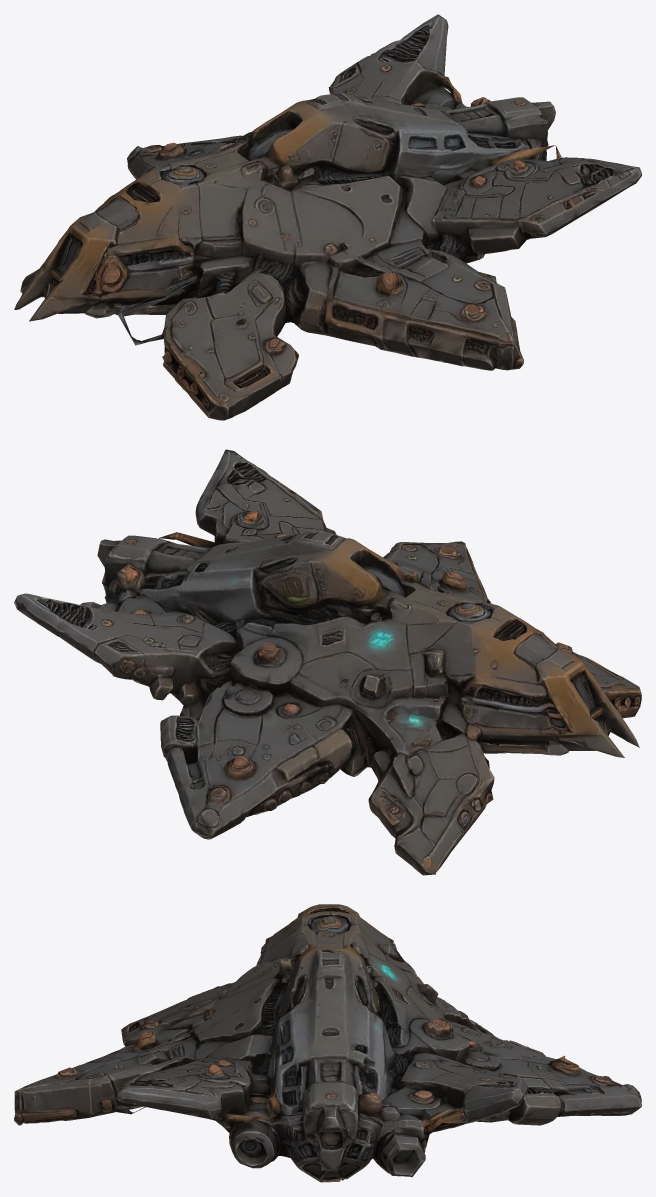
File: enemy_interceptor.glb
The picture shows the model from 3 angles, top to bottom: view 1: azimuth 30°, elevation 25°; view 2: azimuth 150°, elevation 25°; view 3: azimuth 270°, elevation 25°; orthographic projection. The views are drawn at different scales.
Visible parts, largest first — view 1: tripo_node_a0b247aa-0b7c-49c7-9822-364fcb9ac0b7; view 2: tripo_node_a0b247aa-0b7c-49c7-9822-364fcb9ac0b7; view 3: tripo_node_a0b247aa-0b7c-49c7-9822-364fcb9ac0b7.
Boxes of the visible parts, box(x1,y1,x2,y2) form: tripo_node_a0b247aa-0b7c-49c7-9822-364fcb9ac0b7: box(14, 14, 641, 420); tripo_node_a0b247aa-0b7c-49c7-9822-364fcb9ac0b7: box(14, 449, 641, 875); tripo_node_a0b247aa-0b7c-49c7-9822-364fcb9ac0b7: box(14, 904, 641, 1182).
Size of the model in its own units: 0.9459 by 0.3706 by 0.9939.
Materials: 1 (1 with a texture image).
